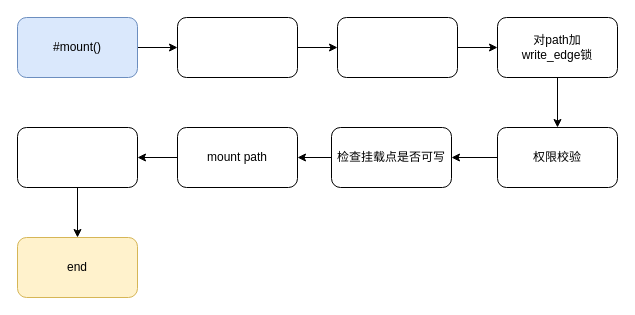
Image size: 635x315. Some labels were removed from this diagram. Each missing label, with the centre of its shape:
写journal日志: point (77, 157)
记录监控指标& 审计日志: point (237, 47)
设置同步元数据策略 源&目的: point (397, 47)
